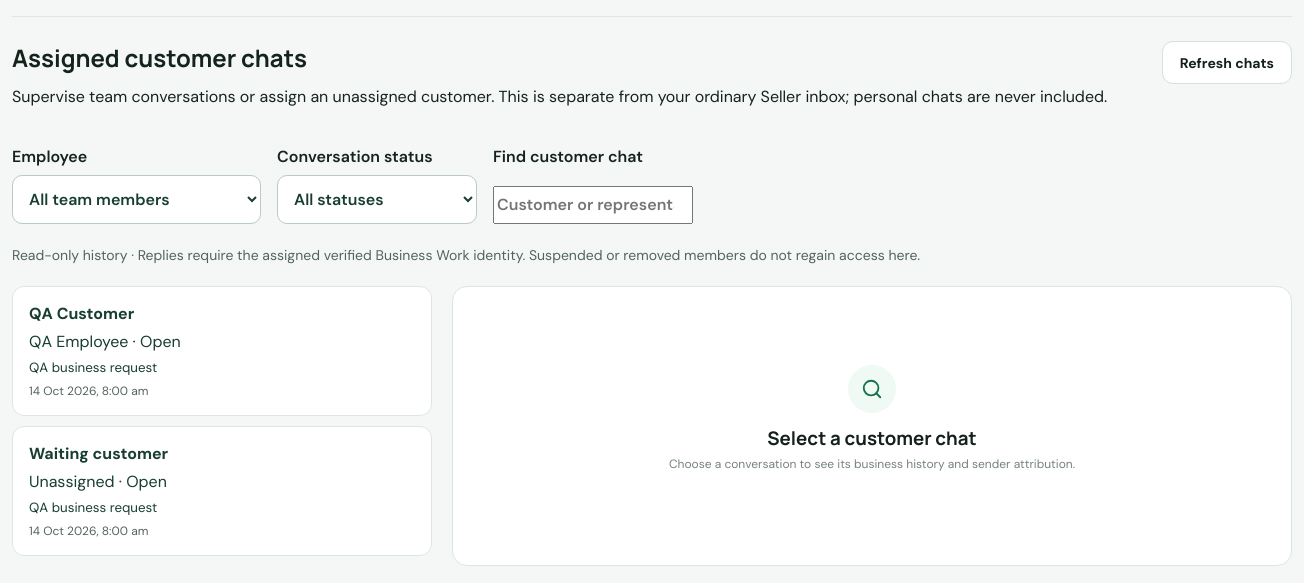
supervised customer chats › filters unassigned conversations without granting reply access
Check: the button "Waiting customer" is shown, box [12, 426, 432, 556]
Step 1. Select "Unassigned conversations" in the dropdown labelled "Employee" → point(136, 199), box [12, 175, 261, 224]
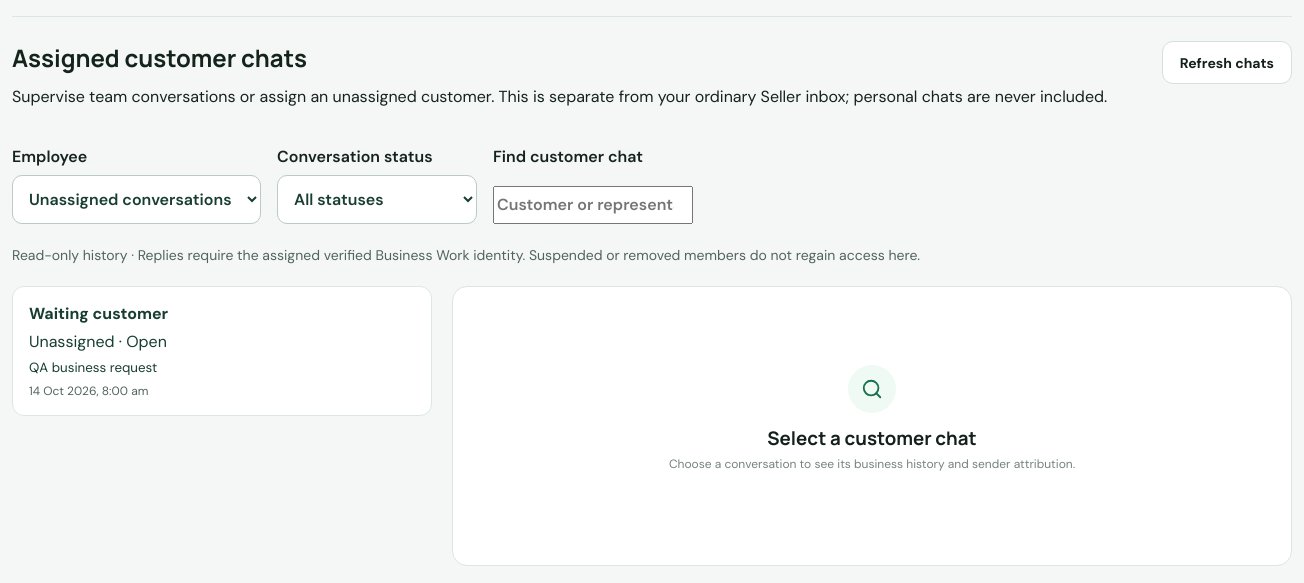
Check: the button "QA Customer" is gone
Step 2. Click the button "Waiting customer" → point(99, 313), box [12, 286, 432, 416]
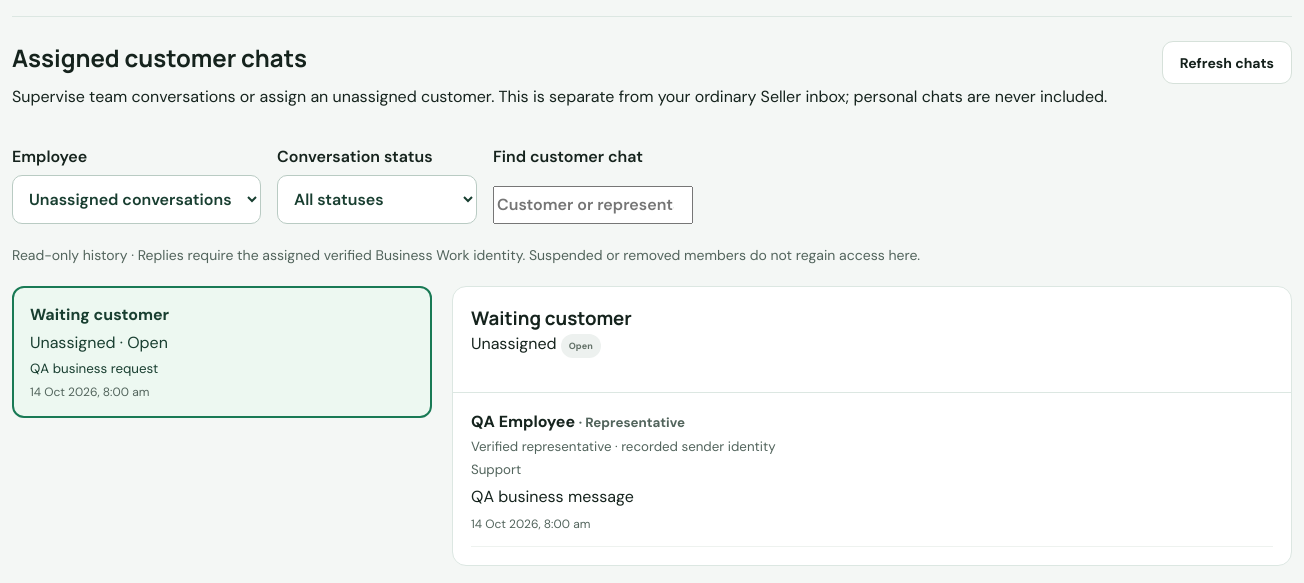
Check: the text "QA business message" is shown, box [471, 486, 634, 507]
